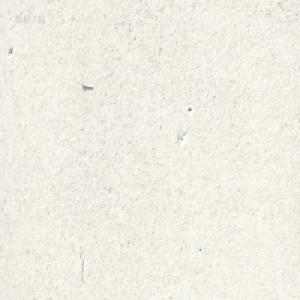Nail: (81, 82, 95, 90)
